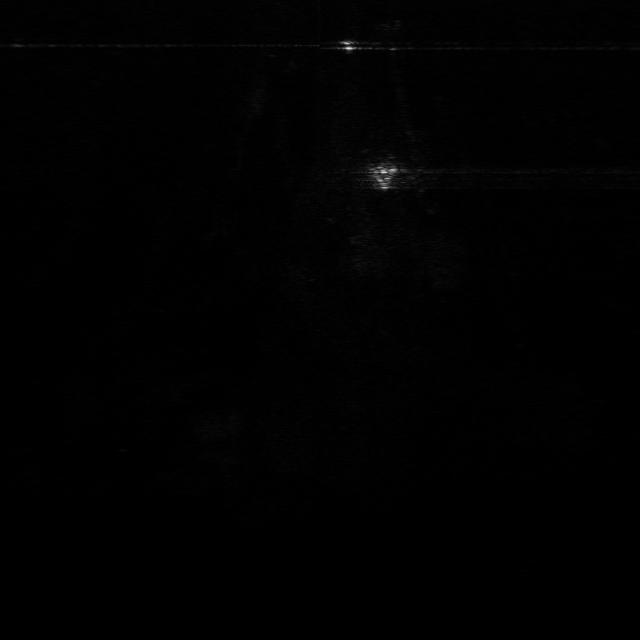rov: (367, 165, 399, 192)
